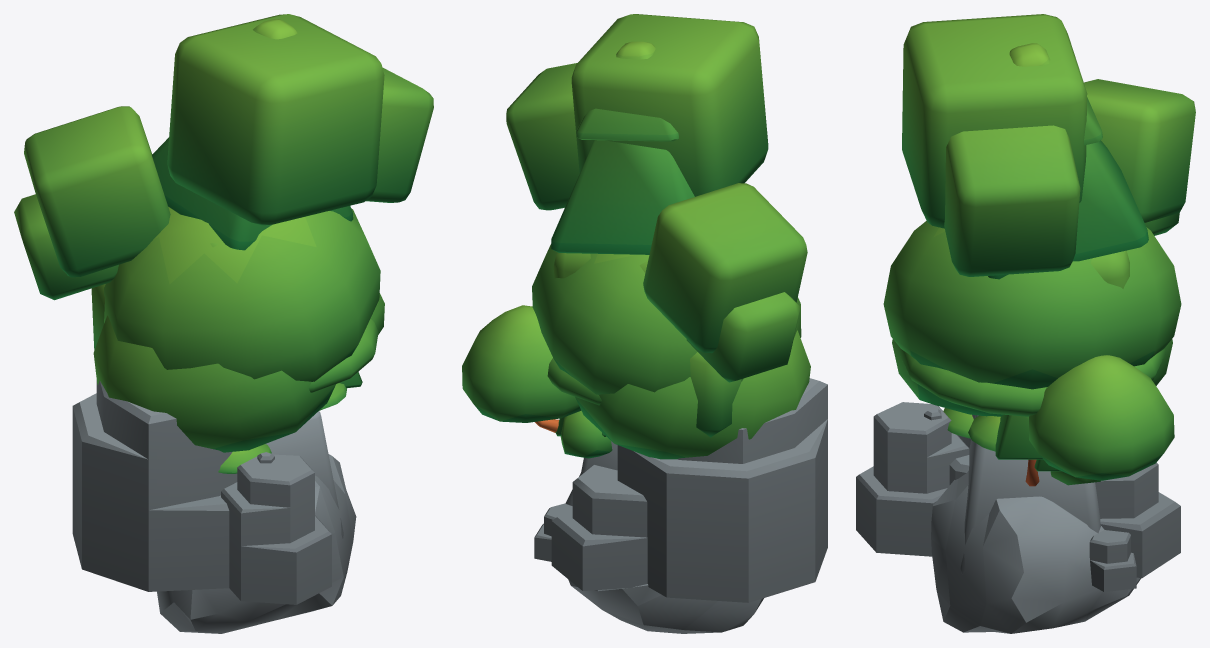
Rendered from kk-nature.glb.
3 renders of one model, left to right at view 1: azimuth 30°, elevation 25°; view 2: azimuth 150°, elevation 25°; view 3: azimuth 270°, elevation 25°, orthographic. The views are drawn at different scales.
Visible parts, largest first — view 1: Tree_2_C_Color1, Rock_1_J_Color1, Tree_1_B_Color1, Tree_1_A_Color1, Rock_3_K_Color1, Tree_4_B_Color1, Tree_3_A_Color1, Rock_2_D_Color1, Tree_2_A_Color1; view 2: Tree_2_C_Color1, Rock_1_J_Color1, Tree_1_B_Color1, Tree_4_B_Color1, Tree_1_A_Color1, Rock_3_K_Color1, Tree_2_A_Color1, Tree_3_A_Color1, Rock_2_D_Color1; view 3: Tree_2_C_Color1, Tree_1_B_Color1, Rock_1_J_Color1, Rock_3_K_Color1, Tree_4_B_Color1, Tree_3_A_Color1, Rock_2_D_Color1, Tree_1_A_Color1, Tree_2_A_Color1.
Boxes of the visible parts, x1,y1,x2,y2 form: Tree_2_C_Color1: (14, 14, 433, 300); Rock_1_J_Color1: (72, 380, 331, 604); Tree_1_B_Color1: (104, 207, 384, 381); Tree_1_A_Color1: (93, 315, 335, 452); Rock_3_K_Color1: (157, 454, 356, 633); Tree_4_B_Color1: (152, 19, 362, 388); Tree_3_A_Color1: (218, 318, 378, 473); Rock_2_D_Color1: (265, 411, 343, 538); Tree_2_A_Color1: (91, 243, 218, 349); Tree_2_C_Color1: (506, 14, 807, 382); Rock_1_J_Color1: (534, 378, 827, 602); Tree_1_B_Color1: (462, 244, 801, 432); Tree_4_B_Color1: (551, 41, 694, 254); Tree_1_A_Color1: (560, 330, 810, 459); Rock_3_K_Color1: (565, 473, 763, 633); Tree_2_A_Color1: (553, 252, 741, 437); Tree_3_A_Color1: (547, 358, 601, 405); Rock_2_D_Color1: (580, 441, 617, 475); Tree_2_C_Color1: (902, 14, 1195, 276); Tree_1_B_Color1: (883, 221, 1181, 480); Rock_1_J_Color1: (856, 402, 1180, 591); Rock_3_K_Color1: (931, 470, 1141, 633); Tree_4_B_Color1: (988, 43, 1148, 486); Tree_3_A_Color1: (899, 348, 1165, 451); Rock_2_D_Color1: (960, 415, 1100, 574); Tree_1_A_Color1: (892, 339, 1172, 485); Tree_2_A_Color1: (1090, 250, 1129, 288).
Bounding box in the file's own units: 4.73 × 7.58 × 3.93.
1 material, 1 textured.
